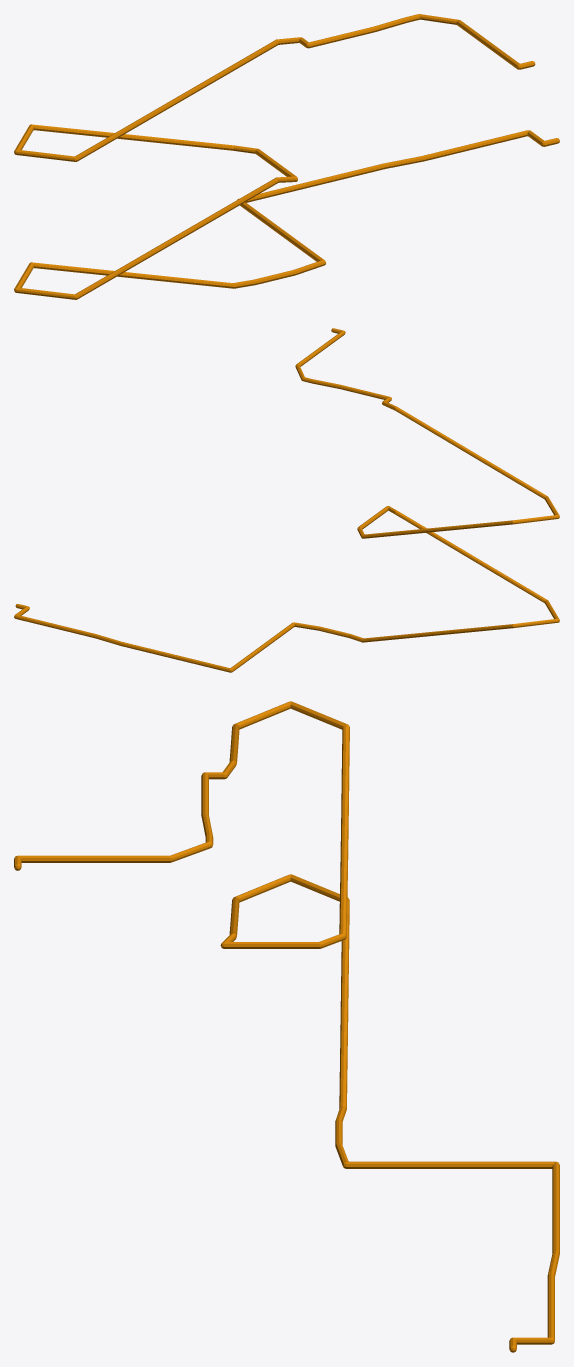
3 views of the same model, one above another, from view 1: azimuth 30°, elevation 25°; view 2: azimuth 150°, elevation 25°; view 3: azimuth 270°, elevation 25° (orthographic). The views are drawn at different scales.
Bounding box in the file's own units: 2406 × 1020 × 1430.
